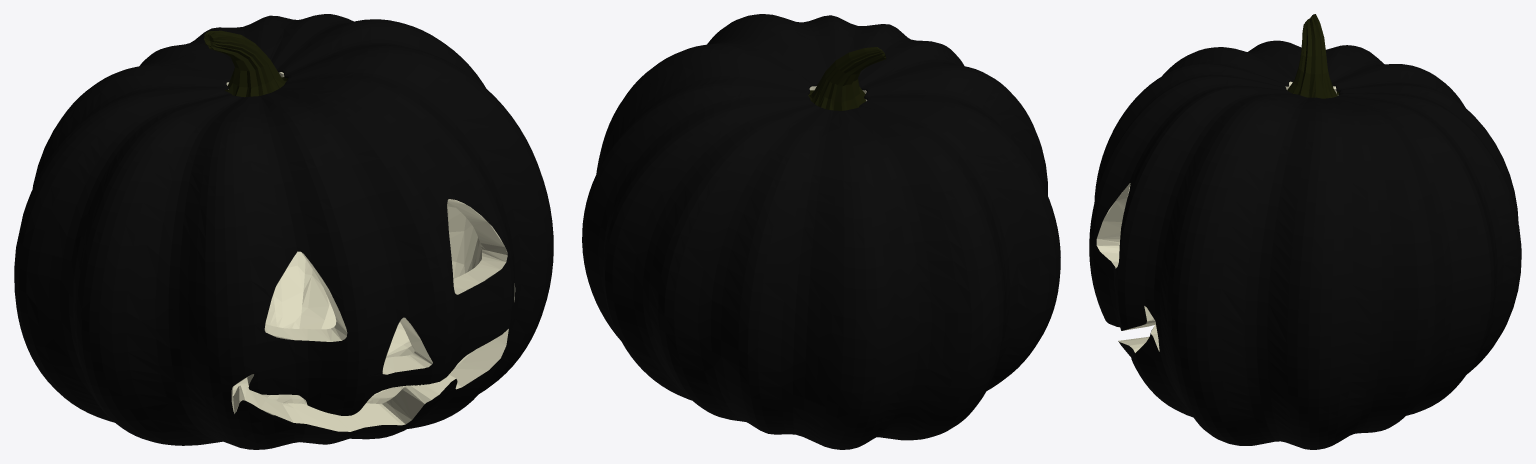
Rendered from pumpkin.glb.
3 renders of one model, left to right at view 1: azimuth 30°, elevation 25°; view 2: azimuth 150°, elevation 25°; view 3: azimuth 270°, elevation 25°, orthographic. The views are drawn at different scales.
Parts seen in each view (by area): view 1: skeleton_root.001, skeleton_root, skeleton_root.002; view 2: skeleton_root.001, skeleton_root.002; view 3: skeleton_root.001, skeleton_root.002, skeleton_root.
Part boxes in pixels (x1,y1,x2,y2): skeleton_root.001: [14, 14, 553, 449]; skeleton_root: [226, 72, 515, 431]; skeleton_root.002: [204, 30, 288, 97]; skeleton_root.001: [582, 14, 1060, 449]; skeleton_root.002: [808, 47, 886, 110]; skeleton_root.001: [1089, 40, 1521, 449]; skeleton_root.002: [1287, 14, 1339, 98]; skeleton_root: [1096, 81, 1338, 352].
Size of the model in its own units: 44.43 by 36.89 by 40.68.
Materials: 3 (2 with a texture image).
